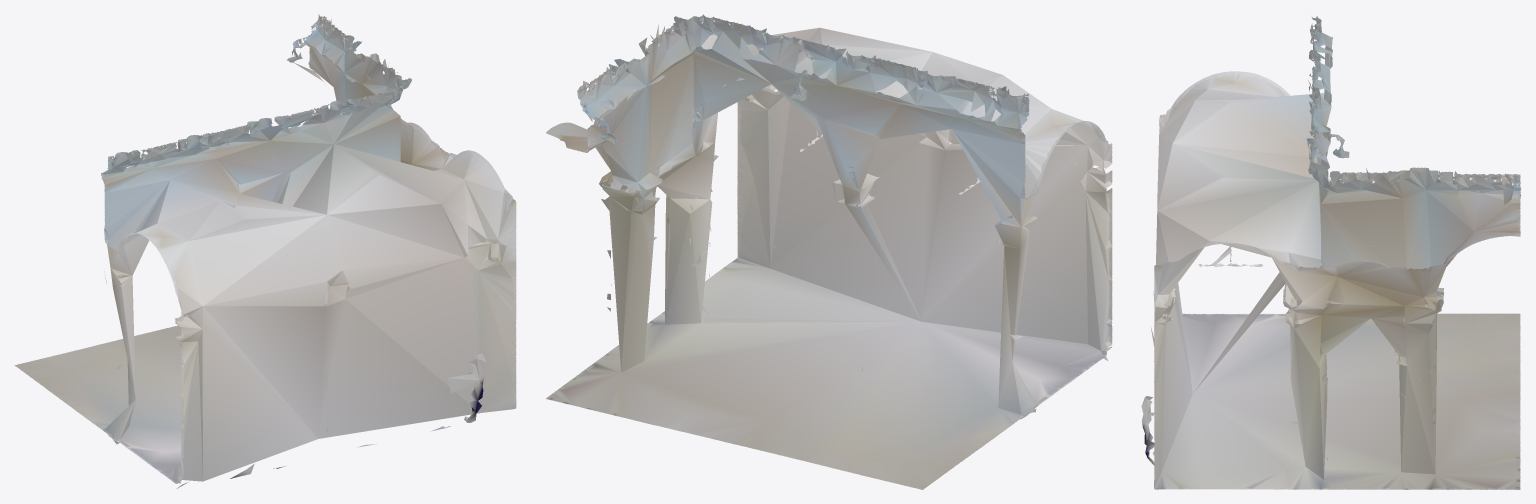
The picture shows the model from 3 angles, left to right: view 1: azimuth 30°, elevation 25°; view 2: azimuth 150°, elevation 25°; view 3: azimuth 270°, elevation 25°; orthographic projection. The views are drawn at different scales.
Size of the model in its own units: 10.06 by 8.42 by 9.16.
